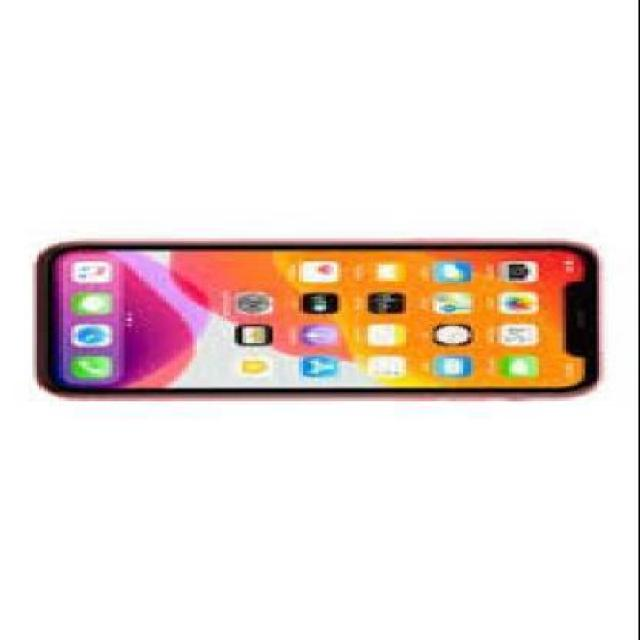mobile: (37, 242, 605, 402)
